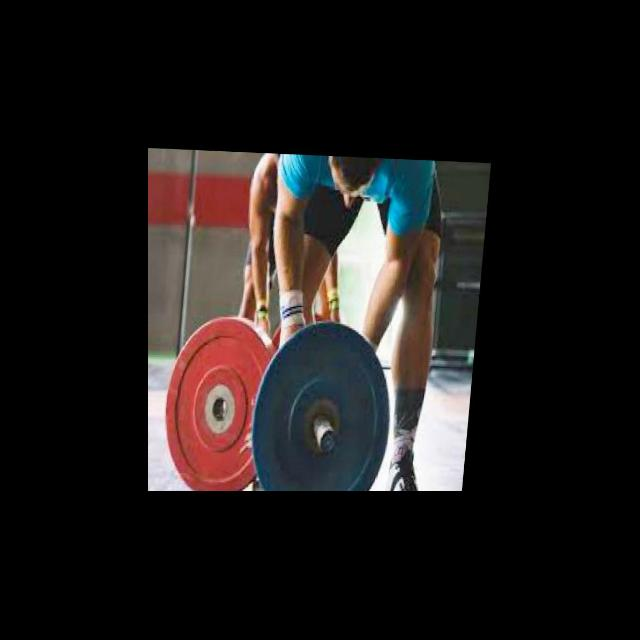barbell: (248, 313, 404, 491)
